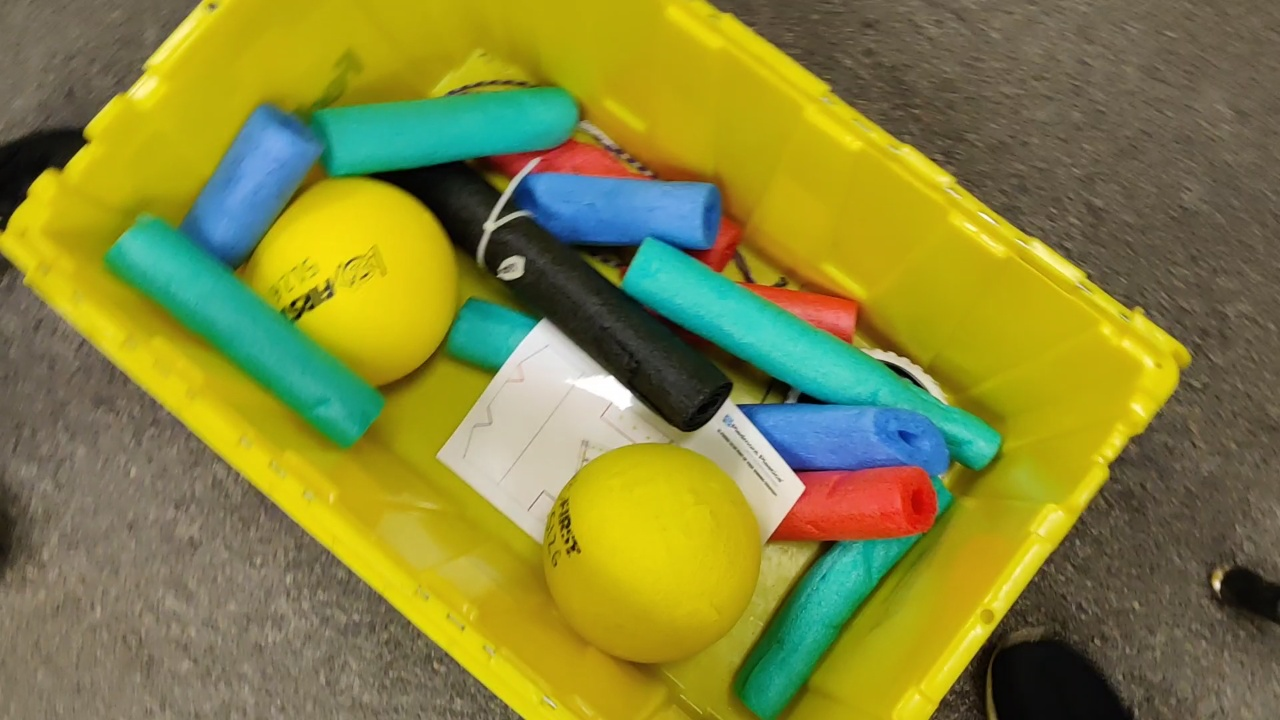Ball: (544, 441, 763, 661), (239, 175, 459, 385)
